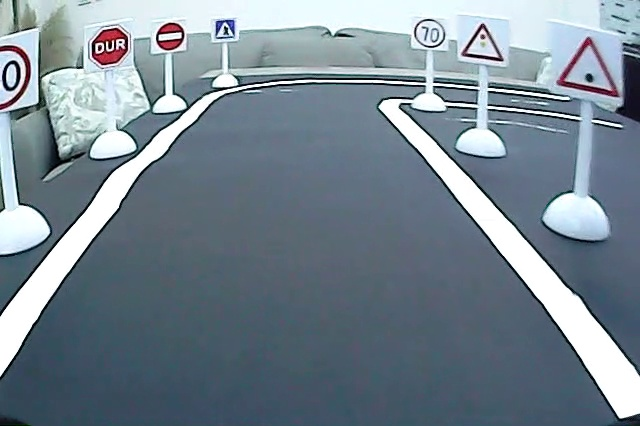do not enter: (153, 19, 186, 53)
green light: (553, 32, 623, 102)
pedestrian crossing: (214, 16, 237, 42)
red light: (458, 17, 507, 65)
speed limit 70: (412, 16, 447, 51)
stop sign: (87, 25, 132, 69)
